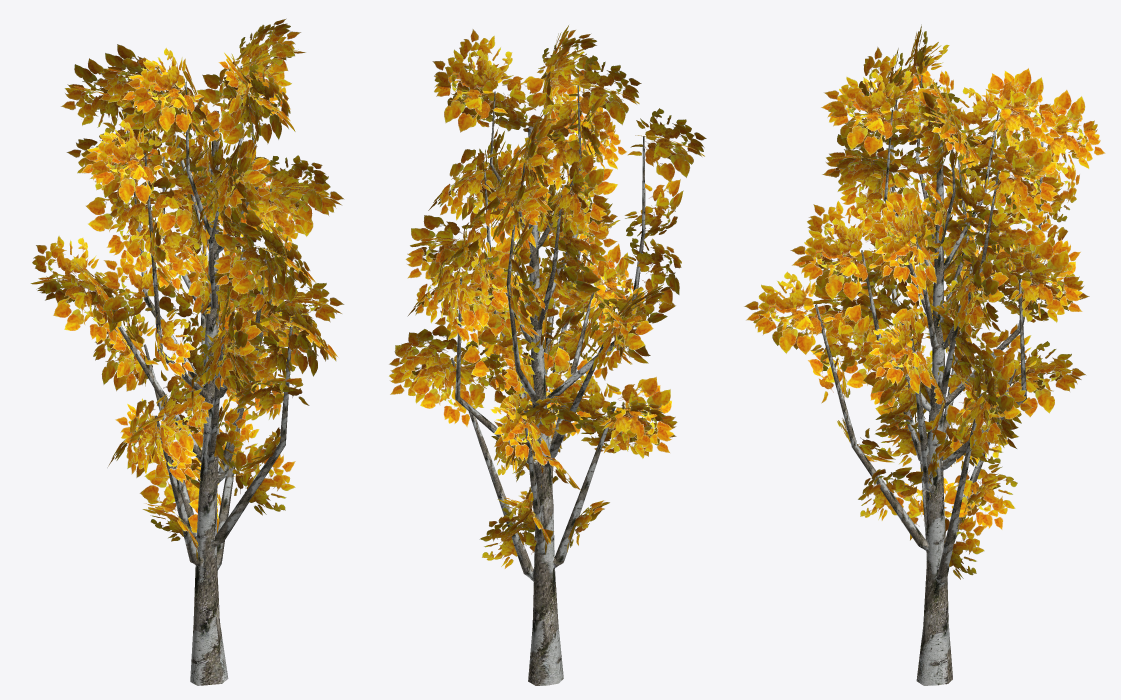
The model's file is fall_grijze_populier_tree_2k.glb.
The picture shows the model from 3 angles, left to right: view 1: azimuth 30°, elevation 25°; view 2: azimuth 150°, elevation 25°; view 3: azimuth 270°, elevation 25°; orthographic projection. The views are drawn at different scales.
Parts seen in each view (by area): view 1: L_P_Populier_Fall_02_2, Bark_Populier_Fall_02_0; view 2: L_P_Populier_Fall_02_2, Bark_Populier_Fall_02_0; view 3: L_P_Populier_Fall_02_2, Bark_Populier_Fall_02_0.
Boxes of the visible parts, x1,y1,x2,y2 form: L_P_Populier_Fall_02_2: (30,18,344,561); Bark_Populier_Fall_02_0: (91,66,292,685); L_P_Populier_Fall_02_2: (389,25,706,568); Bark_Populier_Fall_02_0: (451,75,645,685); L_P_Populier_Fall_02_2: (744,24,1105,579); Bark_Populier_Fall_02_0: (815,75,1043,685).
Size of the model in its own units: 5.56 by 12.45 by 6.53.
3 materials, 3 textured.
